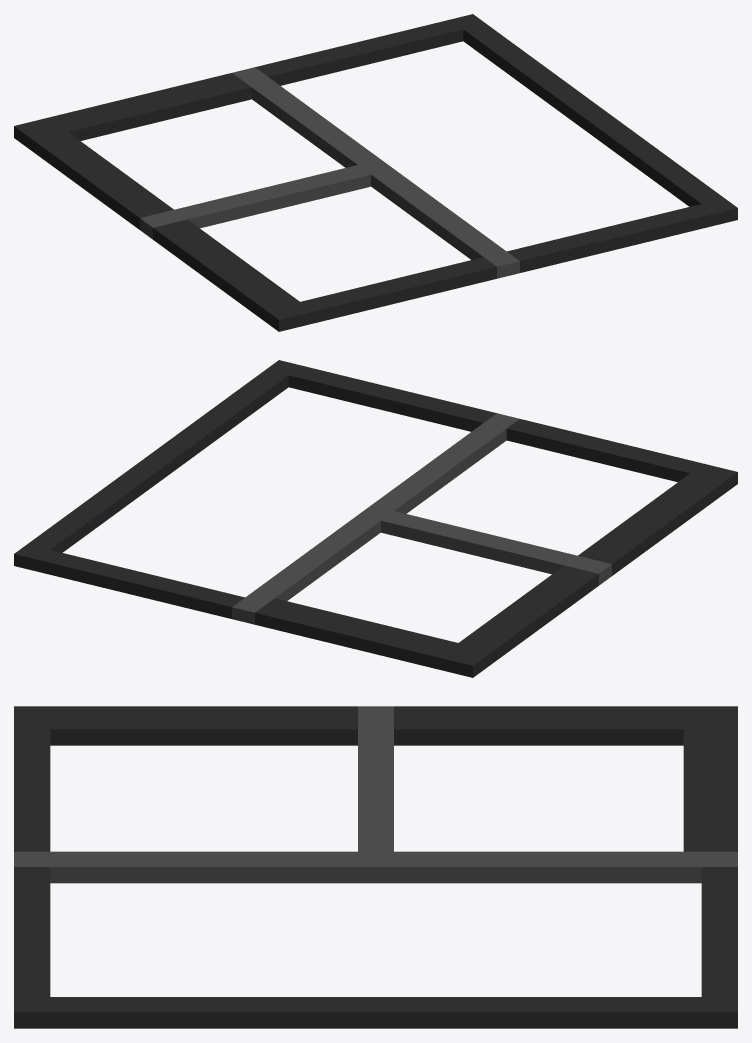
The model's file is movable_wire_T_turn.obj.
3 renders of one model, top to bottom at view 1: azimuth 30°, elevation 25°; view 2: azimuth 150°, elevation 25°; view 3: azimuth 270°, elevation 25°, orthographic. The views are drawn at different scales.
Bounding box in the file's own units: 4 × 0.1 × 4.
1 material, 1 textured.
